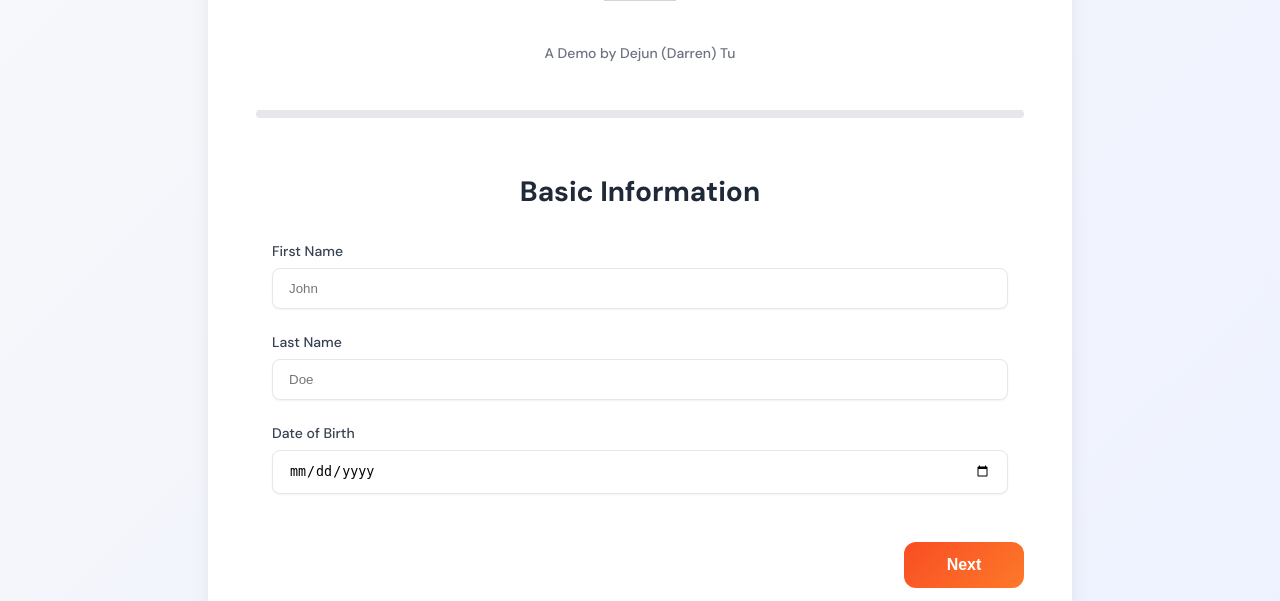
Test: App Component Workflow › should navigate to Step 2
Type "Darren" into the field labelled "First Name" at (640, 289), box [272,268,1008,309]
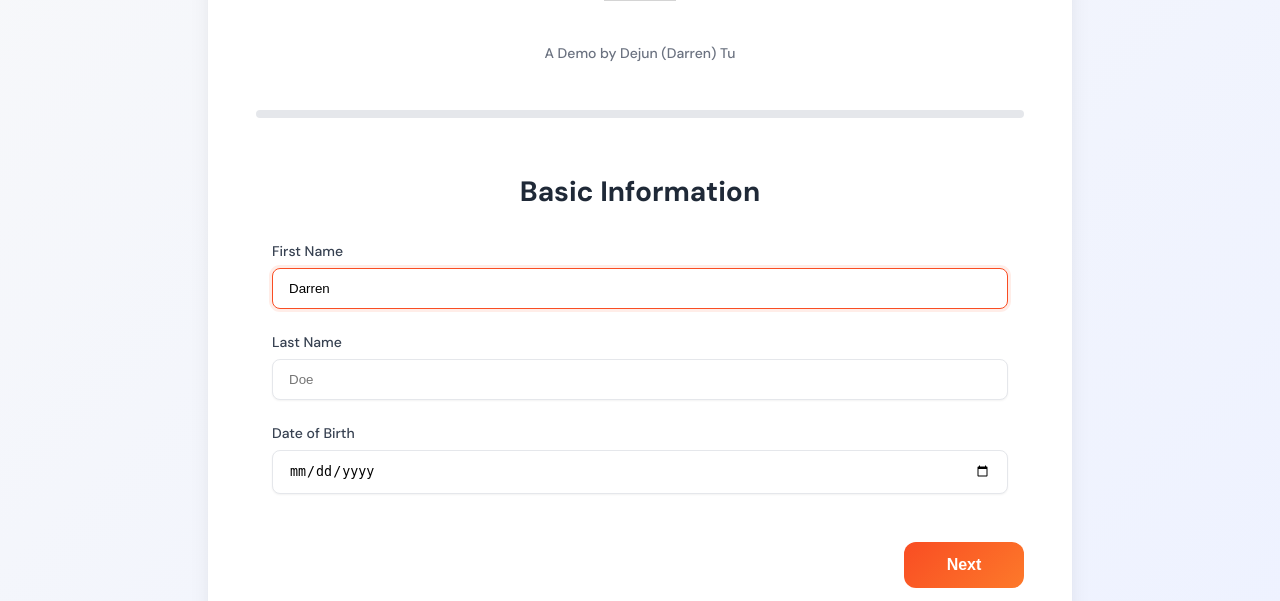
Type "Tu" into the field labelled "Last Name" at (640, 380), box [272,359,1008,400]
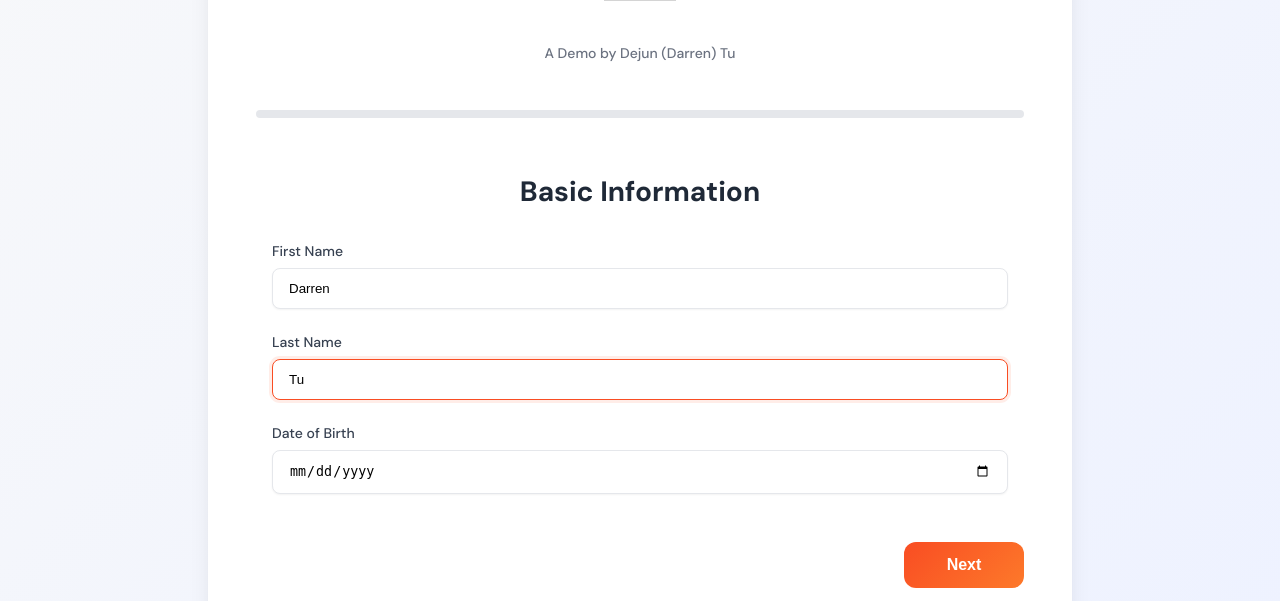
Type "1990-01-01" into the date field labelled "Date of Birth" at (640, 472), box [272,450,1008,494]
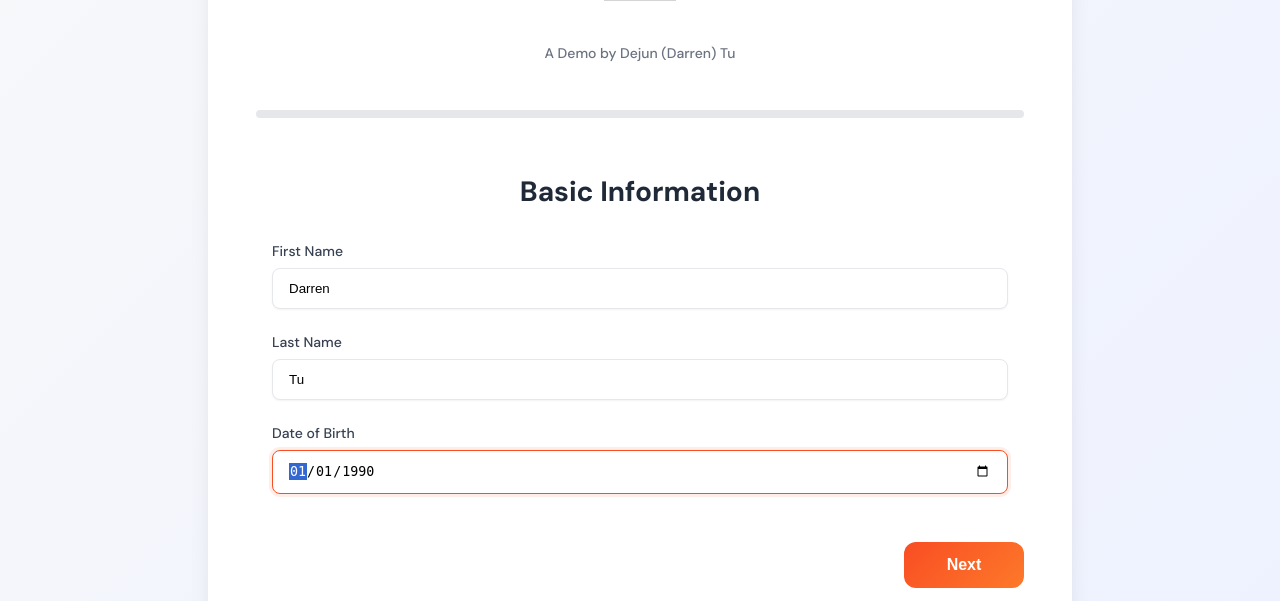
Click the button "Next" at (964, 565), box [904,542,1024,588]
(page scrolled)
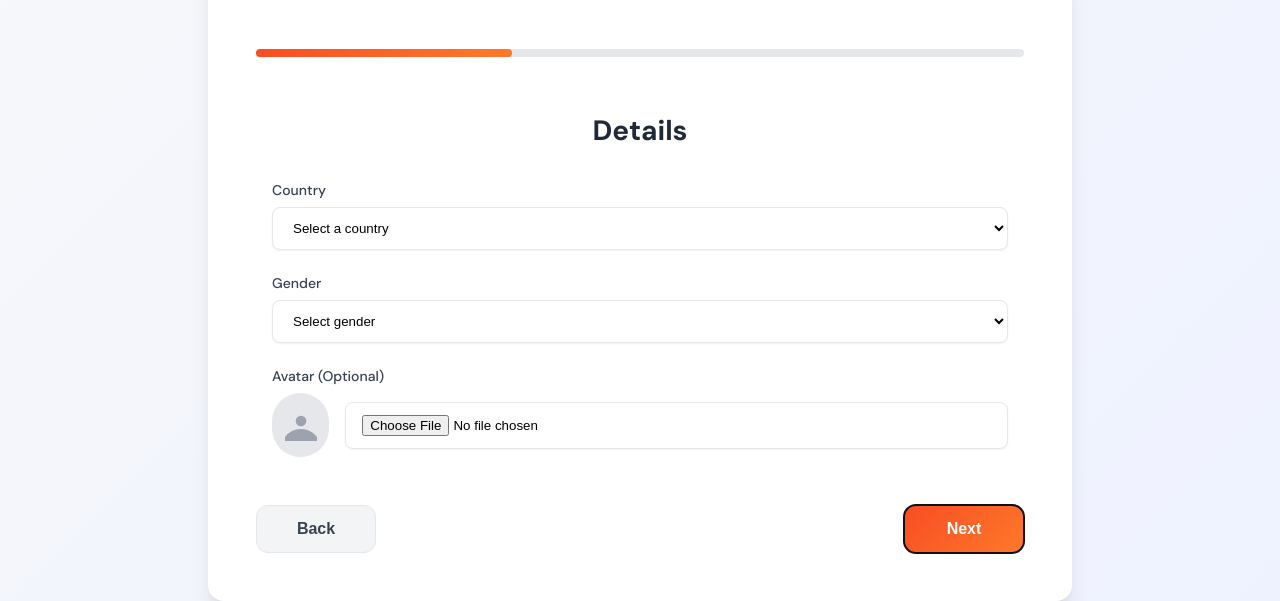
Now the heading "Details" is shown, box [592,112,688,149]
Now the button "Back" is shown, box [256,505,376,553]
